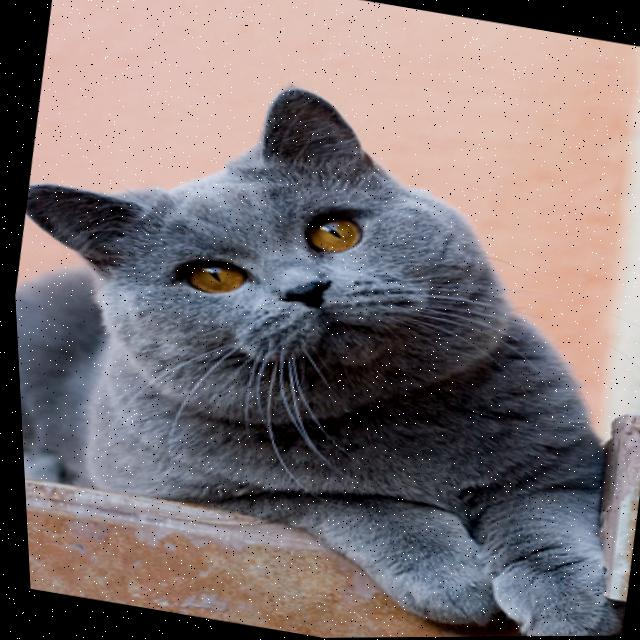British Shorthair: (2, 35, 640, 640)
